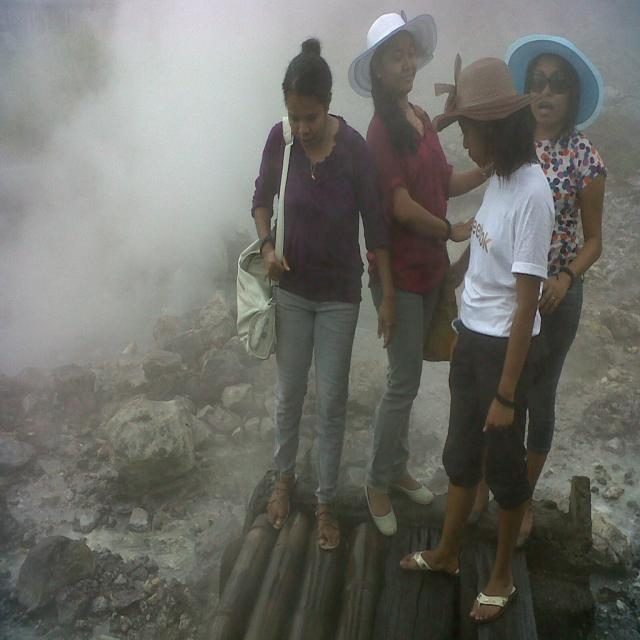Hat: (505, 35, 603, 131), (348, 11, 438, 100), (429, 54, 532, 124)
